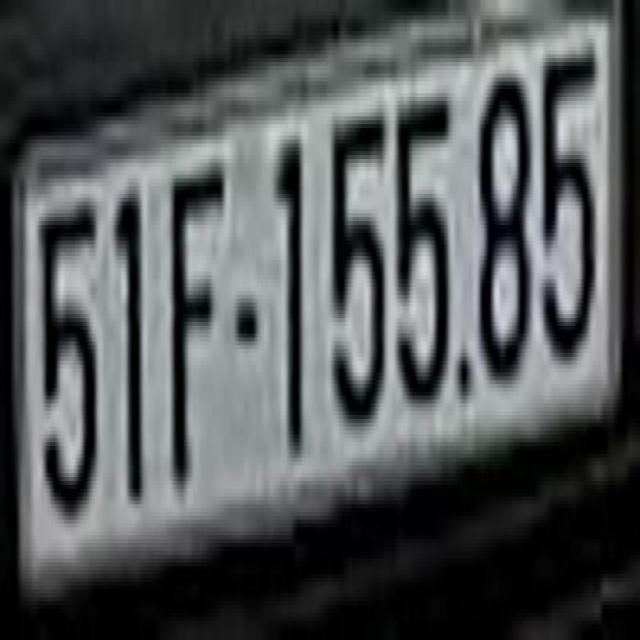1: (266, 128, 310, 458), (109, 178, 150, 508)
5: (36, 198, 100, 516), (328, 105, 388, 442), (392, 81, 451, 415), (540, 42, 601, 364)
8: (476, 62, 534, 384)
F: (168, 159, 227, 489)
